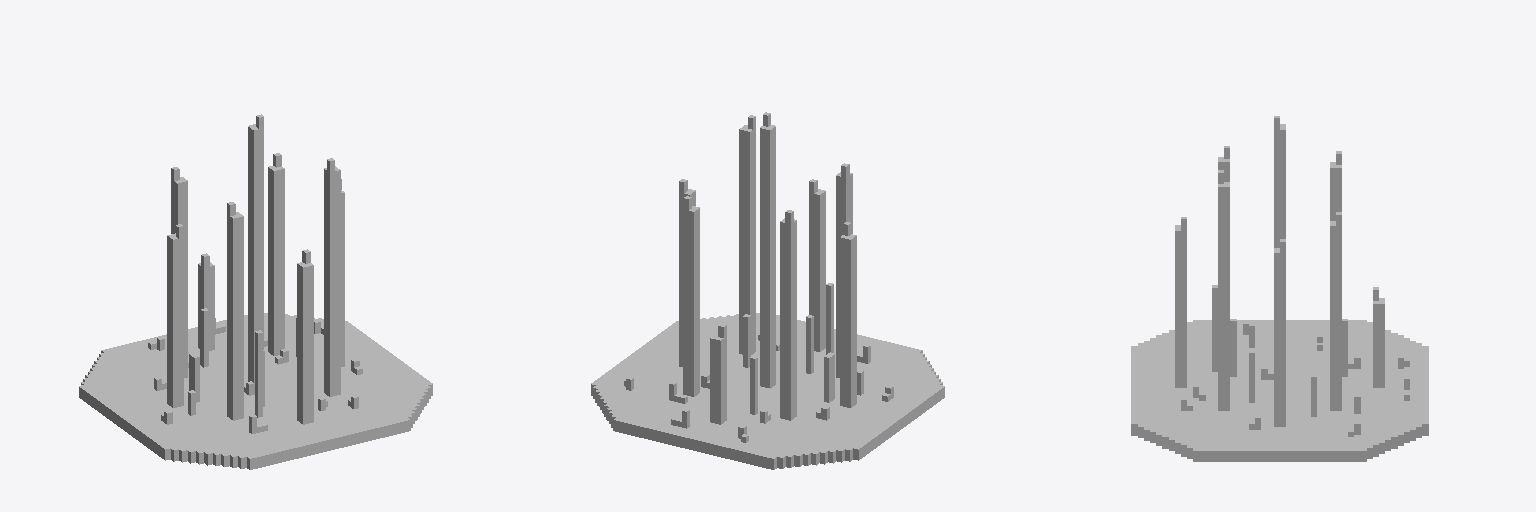
File: peaks 2.obj
3 renders of one model, left to right at view 1: azimuth 30°, elevation 25°; view 2: azimuth 150°, elevation 25°; view 3: azimuth 270°, elevation 25°, orthographic.
Parts seen in each view (by area): view 1: object 1; view 2: object 1; view 3: object 1.
Boxes of the visible parts, <box> form: object 1: <box>79,114,432,469</box>; object 1: <box>591,112,944,469</box>; object 1: <box>1131,116,1428,461</box>.
Size of the model in its own units: 5 by 5 by 4.8.